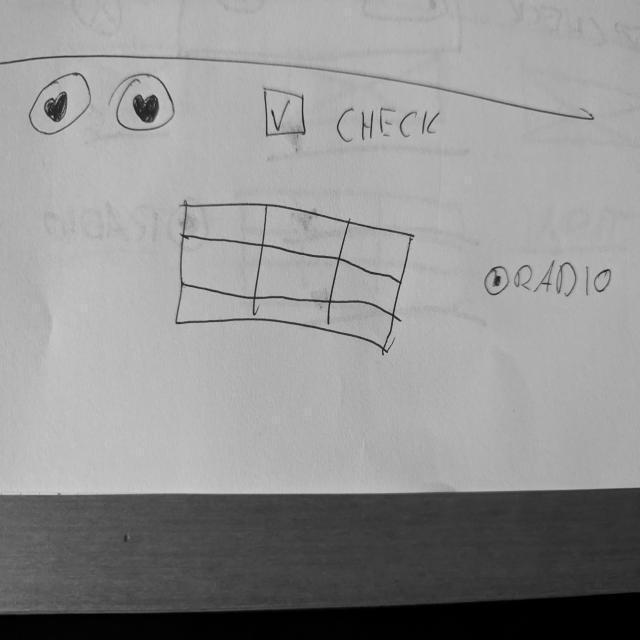checkbox: (258, 83, 445, 149)
icon-button: (25, 68, 97, 140), (115, 70, 179, 135)
radio: (484, 263, 515, 305)
table: (175, 198, 417, 358)
